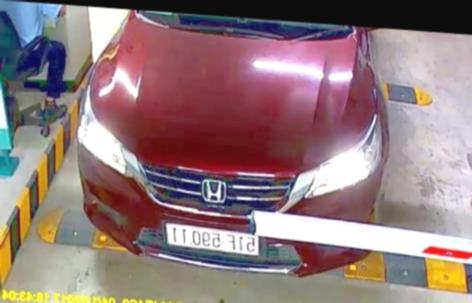License_Plate: (167, 226, 257, 251)
